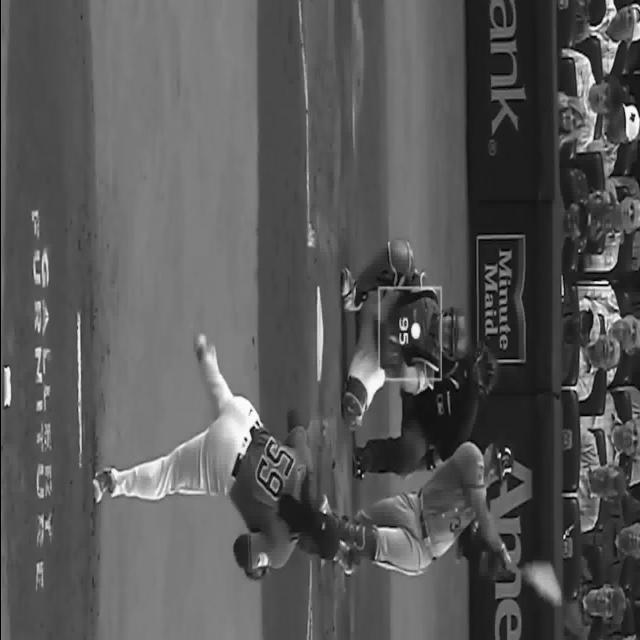bat: (522, 560, 560, 604)
shoe: (318, 493, 340, 566), (92, 466, 115, 504), (332, 539, 356, 575), (194, 333, 216, 365), (318, 493, 339, 520), (340, 266, 356, 296), (352, 446, 364, 480)
